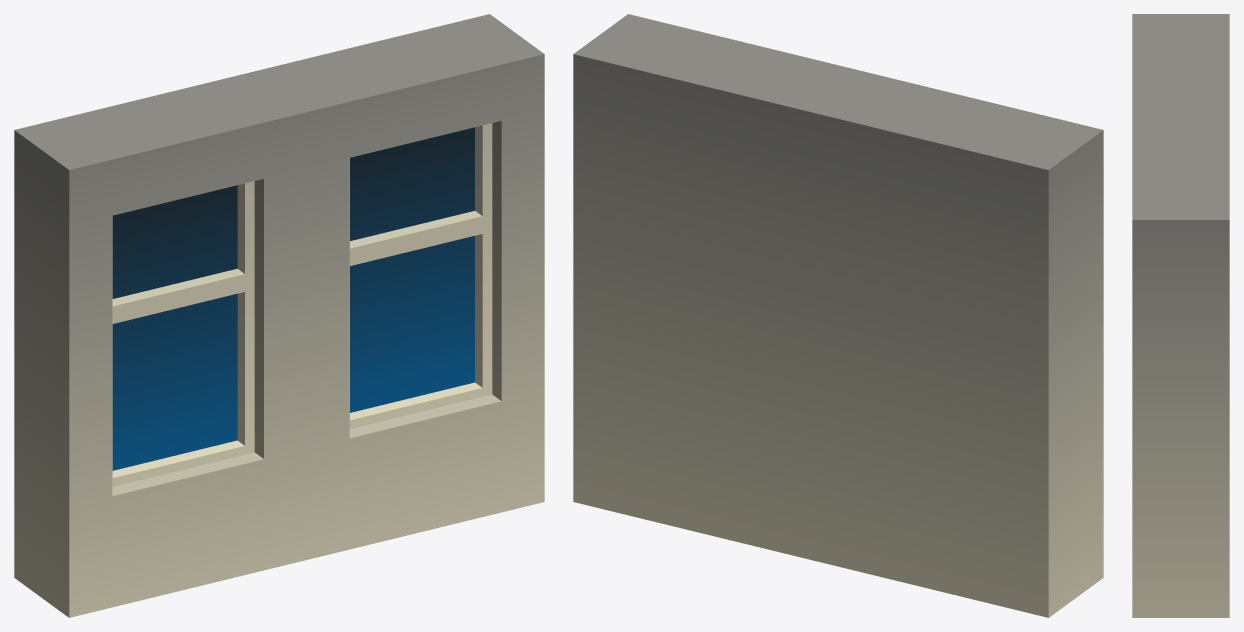
File: B02_fenetre_9.fbx
3 views of the same model, side by side, from view 1: azimuth 30°, elevation 25°; view 2: azimuth 150°, elevation 25°; view 3: azimuth 270°, elevation 25° (orthographic). The views are drawn at different scales.
Visible parts, largest first — view 1: B02_fenetre_9; view 2: B02_fenetre_9; view 3: B02_fenetre_9.
Part boxes in pixels (x1=…): B02_fenetre_9: x1=14, y1=14, x2=544, y2=617; B02_fenetre_9: x1=573, y1=14, x2=1103, y2=617; B02_fenetre_9: x1=1132, y1=14, x2=1229, y2=617.
Bounding box in the file's own units: 500 × 450 × 100.
